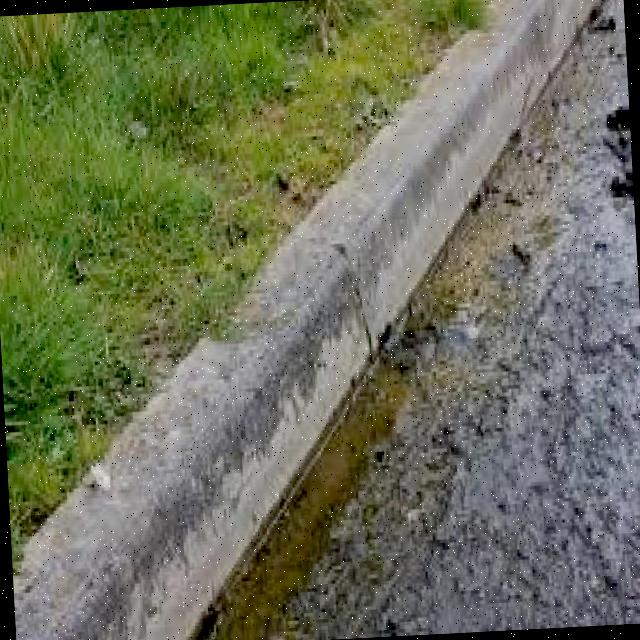curb: (2, 338, 346, 640), (228, 195, 472, 406), (334, 81, 524, 263), (468, 1, 622, 109)
